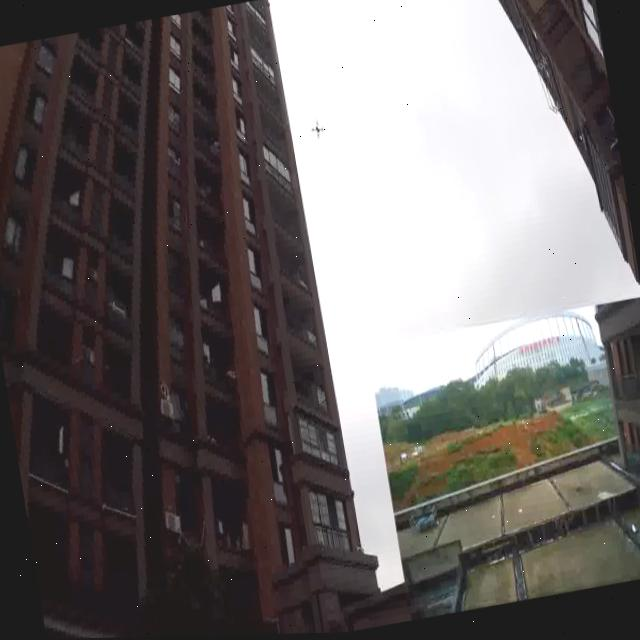drone: (306, 116, 327, 143)
